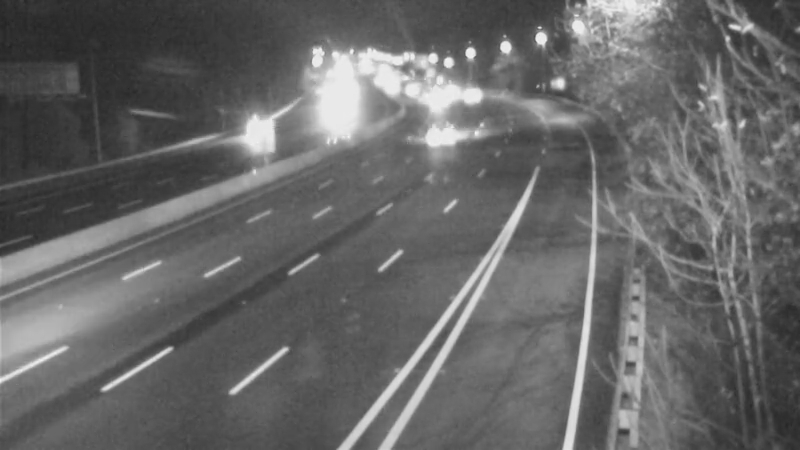vehicle: (438, 70, 488, 120), (411, 77, 461, 127), (411, 112, 461, 162), (224, 113, 274, 163)
